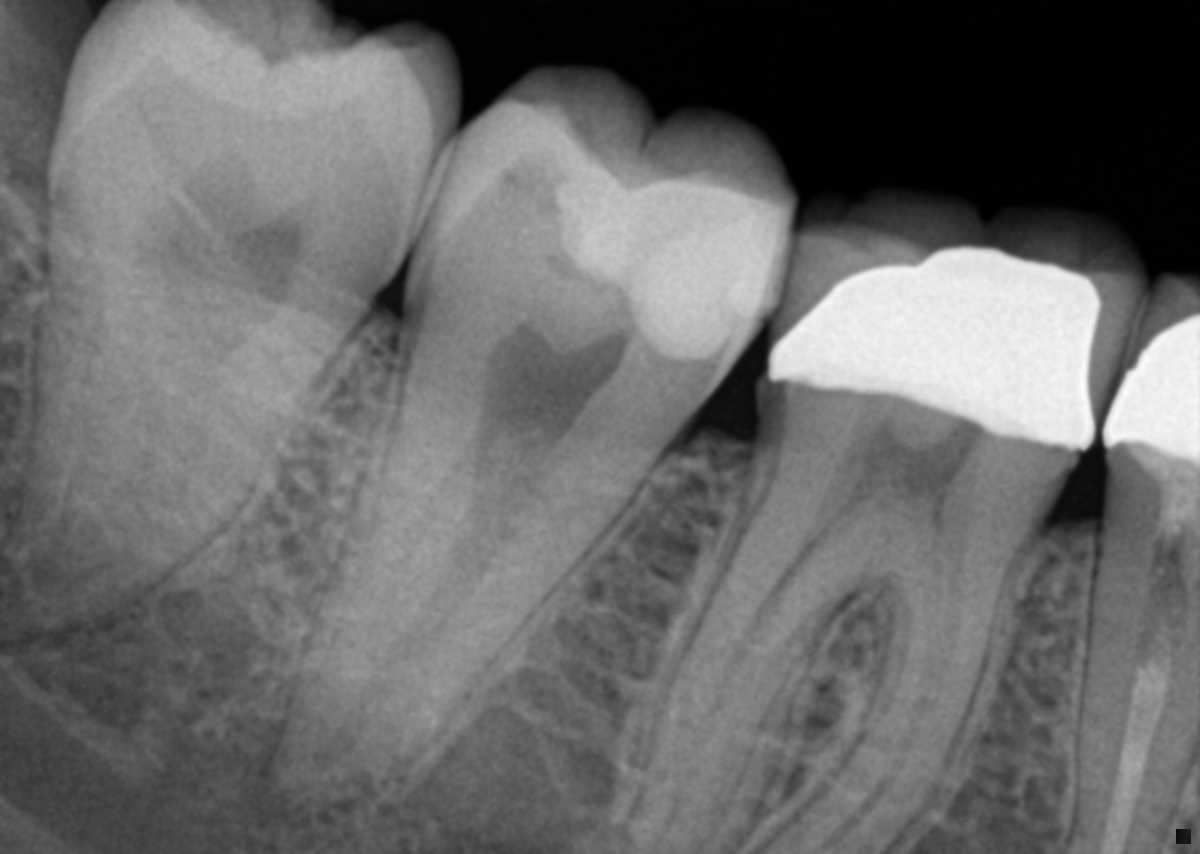Apical Lesion: (240, 726, 368, 835)
Distal Canal: (671, 529, 823, 795)
Distal Root: (619, 467, 897, 851)
Main Canal: (307, 331, 630, 777), (42, 199, 300, 588)
Main Root: (275, 301, 670, 797), (0, 204, 368, 638), (1059, 518, 1200, 854)
Mesial Canal: (825, 509, 964, 849)
Mesial Root: (745, 558, 1021, 854)
Root Canal Filling: (1101, 621, 1170, 854)
